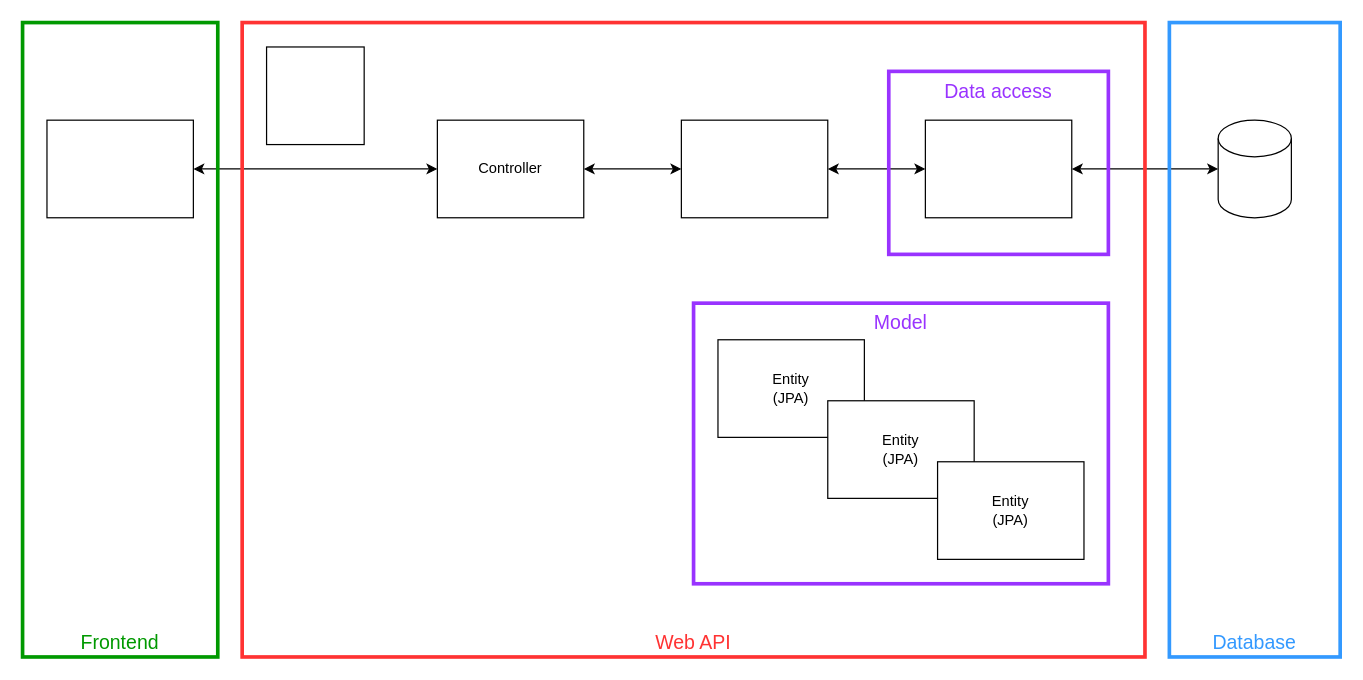
Image size: 1363x680. Some labels were removed from this diagram. The shapes that lost their labels are listed below. From the top down, each one's centre as x and y in pixels, then its label:
At (314,95): "DTO (Data Transfer Object)".
At (119,168): "Client".
At (754,168): "Service".
At (998,168): "Repository".
At (1254,168): "DB".
